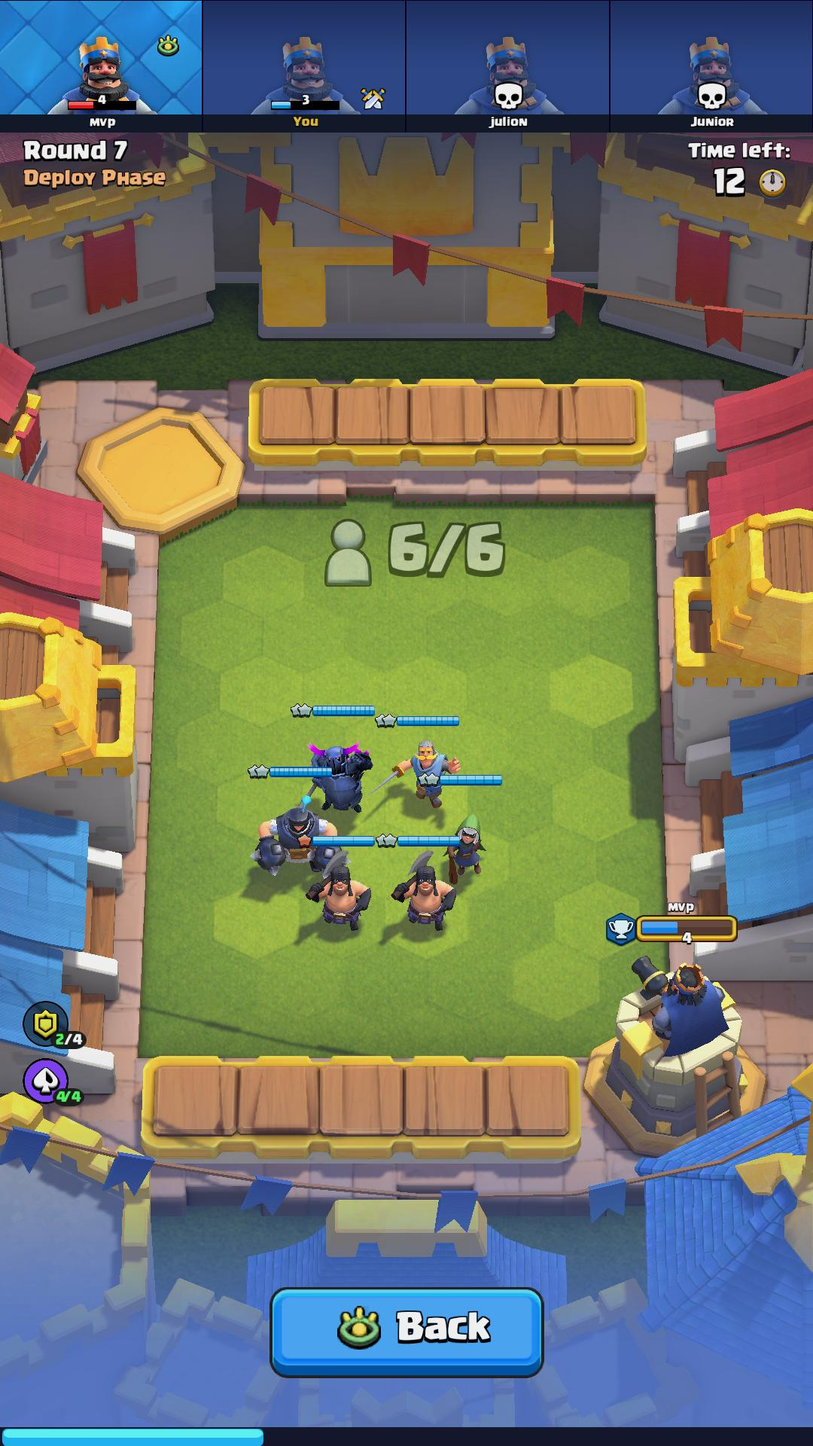bandit: (441, 806, 501, 887)
executioner: (388, 848, 460, 937), (301, 849, 374, 931)
knight: (382, 733, 463, 808)
mega: (242, 792, 351, 871)
pekka: (298, 740, 375, 814)
